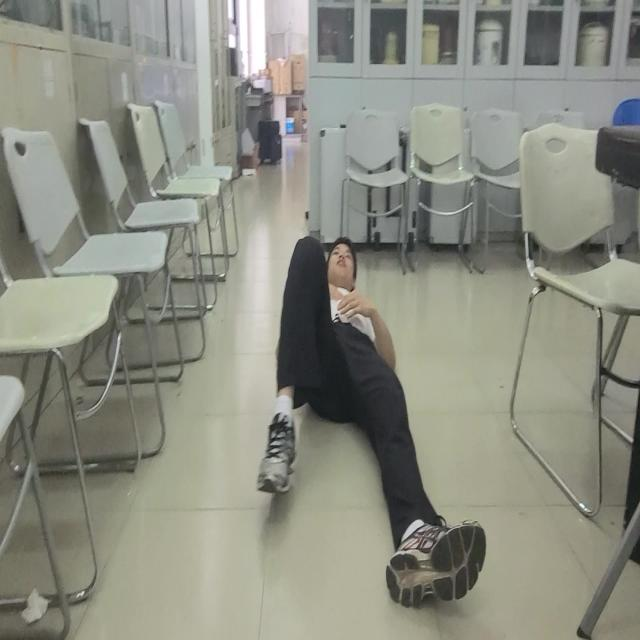Fall-Detected: (265, 233, 487, 610)
